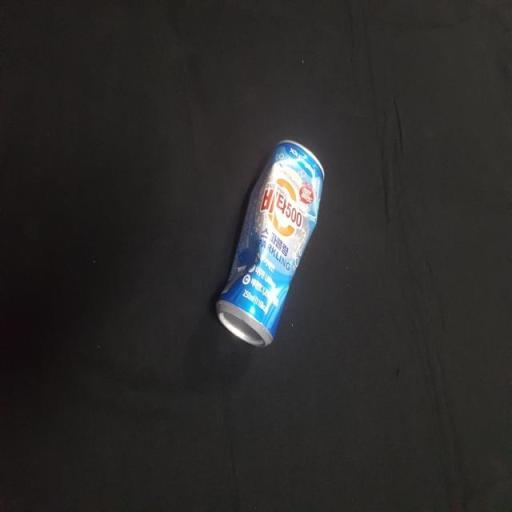metal: (204, 119, 325, 353)
